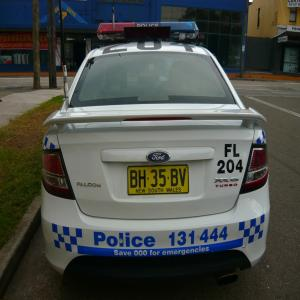Vehicle-registration-plate: (118, 161, 198, 203)
